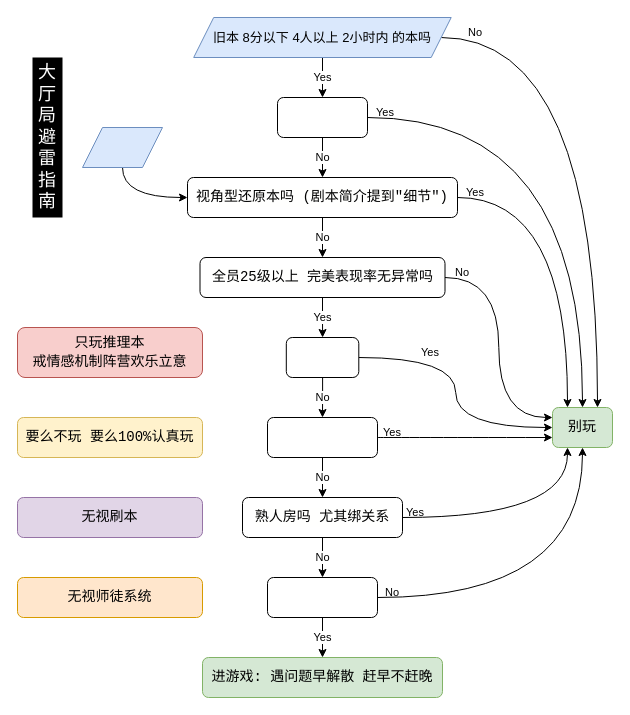
Image size: 630x715. Some labels were removed from this diagram. The centre of each missing label's shape, as x and y in pixels:
"开局前气氛对吗" goes at point (322, 597).
"新本" goes at point (122, 147).
"极限等1吗" goes at point (322, 117).
"纷享房吗" goes at point (322, 357).
"解散重开局吗" goes at point (322, 437).
